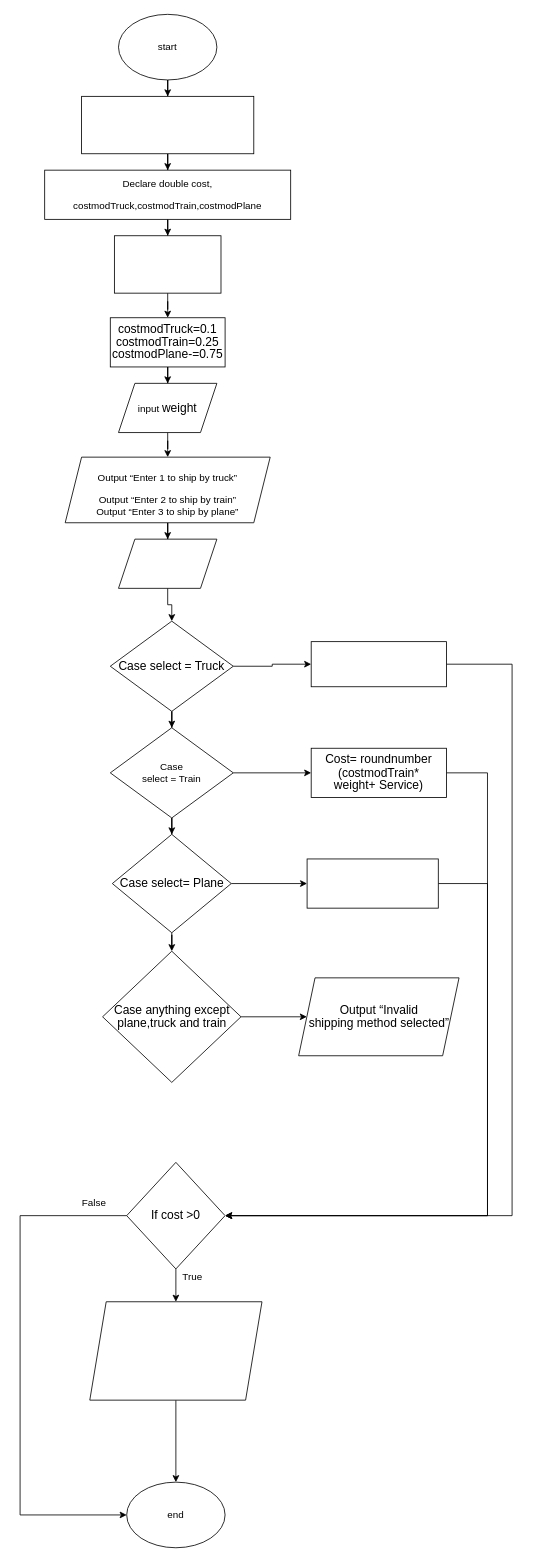
Image size: 533x1562. Some labels were removed from this diagram. The shapes that lost their labels are listed below. From the top down, each one's centre as x and y in pixels, then its label:
At [167,125]: "Declare int select,truck,train,plane,service;".
At [167,264]: "Truck=1 Train=2 Plane=3 Service=10".
At [167,563]: "Input select".
At [378,664]: "Cost=roundnumber (costmodTruck* weight+ Service)".
At [372,883]: "Cost= roundnumber (costmodPlane * weight+ Service)".
At [175,1350]: "Print “Shipping by selected method costs: cost”".
